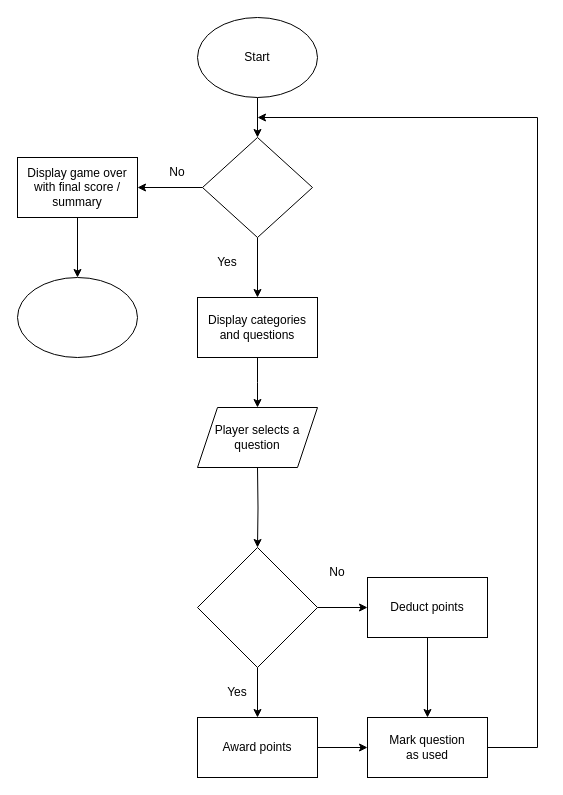
The diagram is 563 pixels wide and 795 high, and some of its shapes have lost their labels. The shapes that lost their labels are listed below. From the top down, each one's centre as x and y in pixels, then its label:
At point (257, 187): "Is there question remaining?".
At point (77, 317): "End".
At point (257, 607): "Response correct and in question form?".
